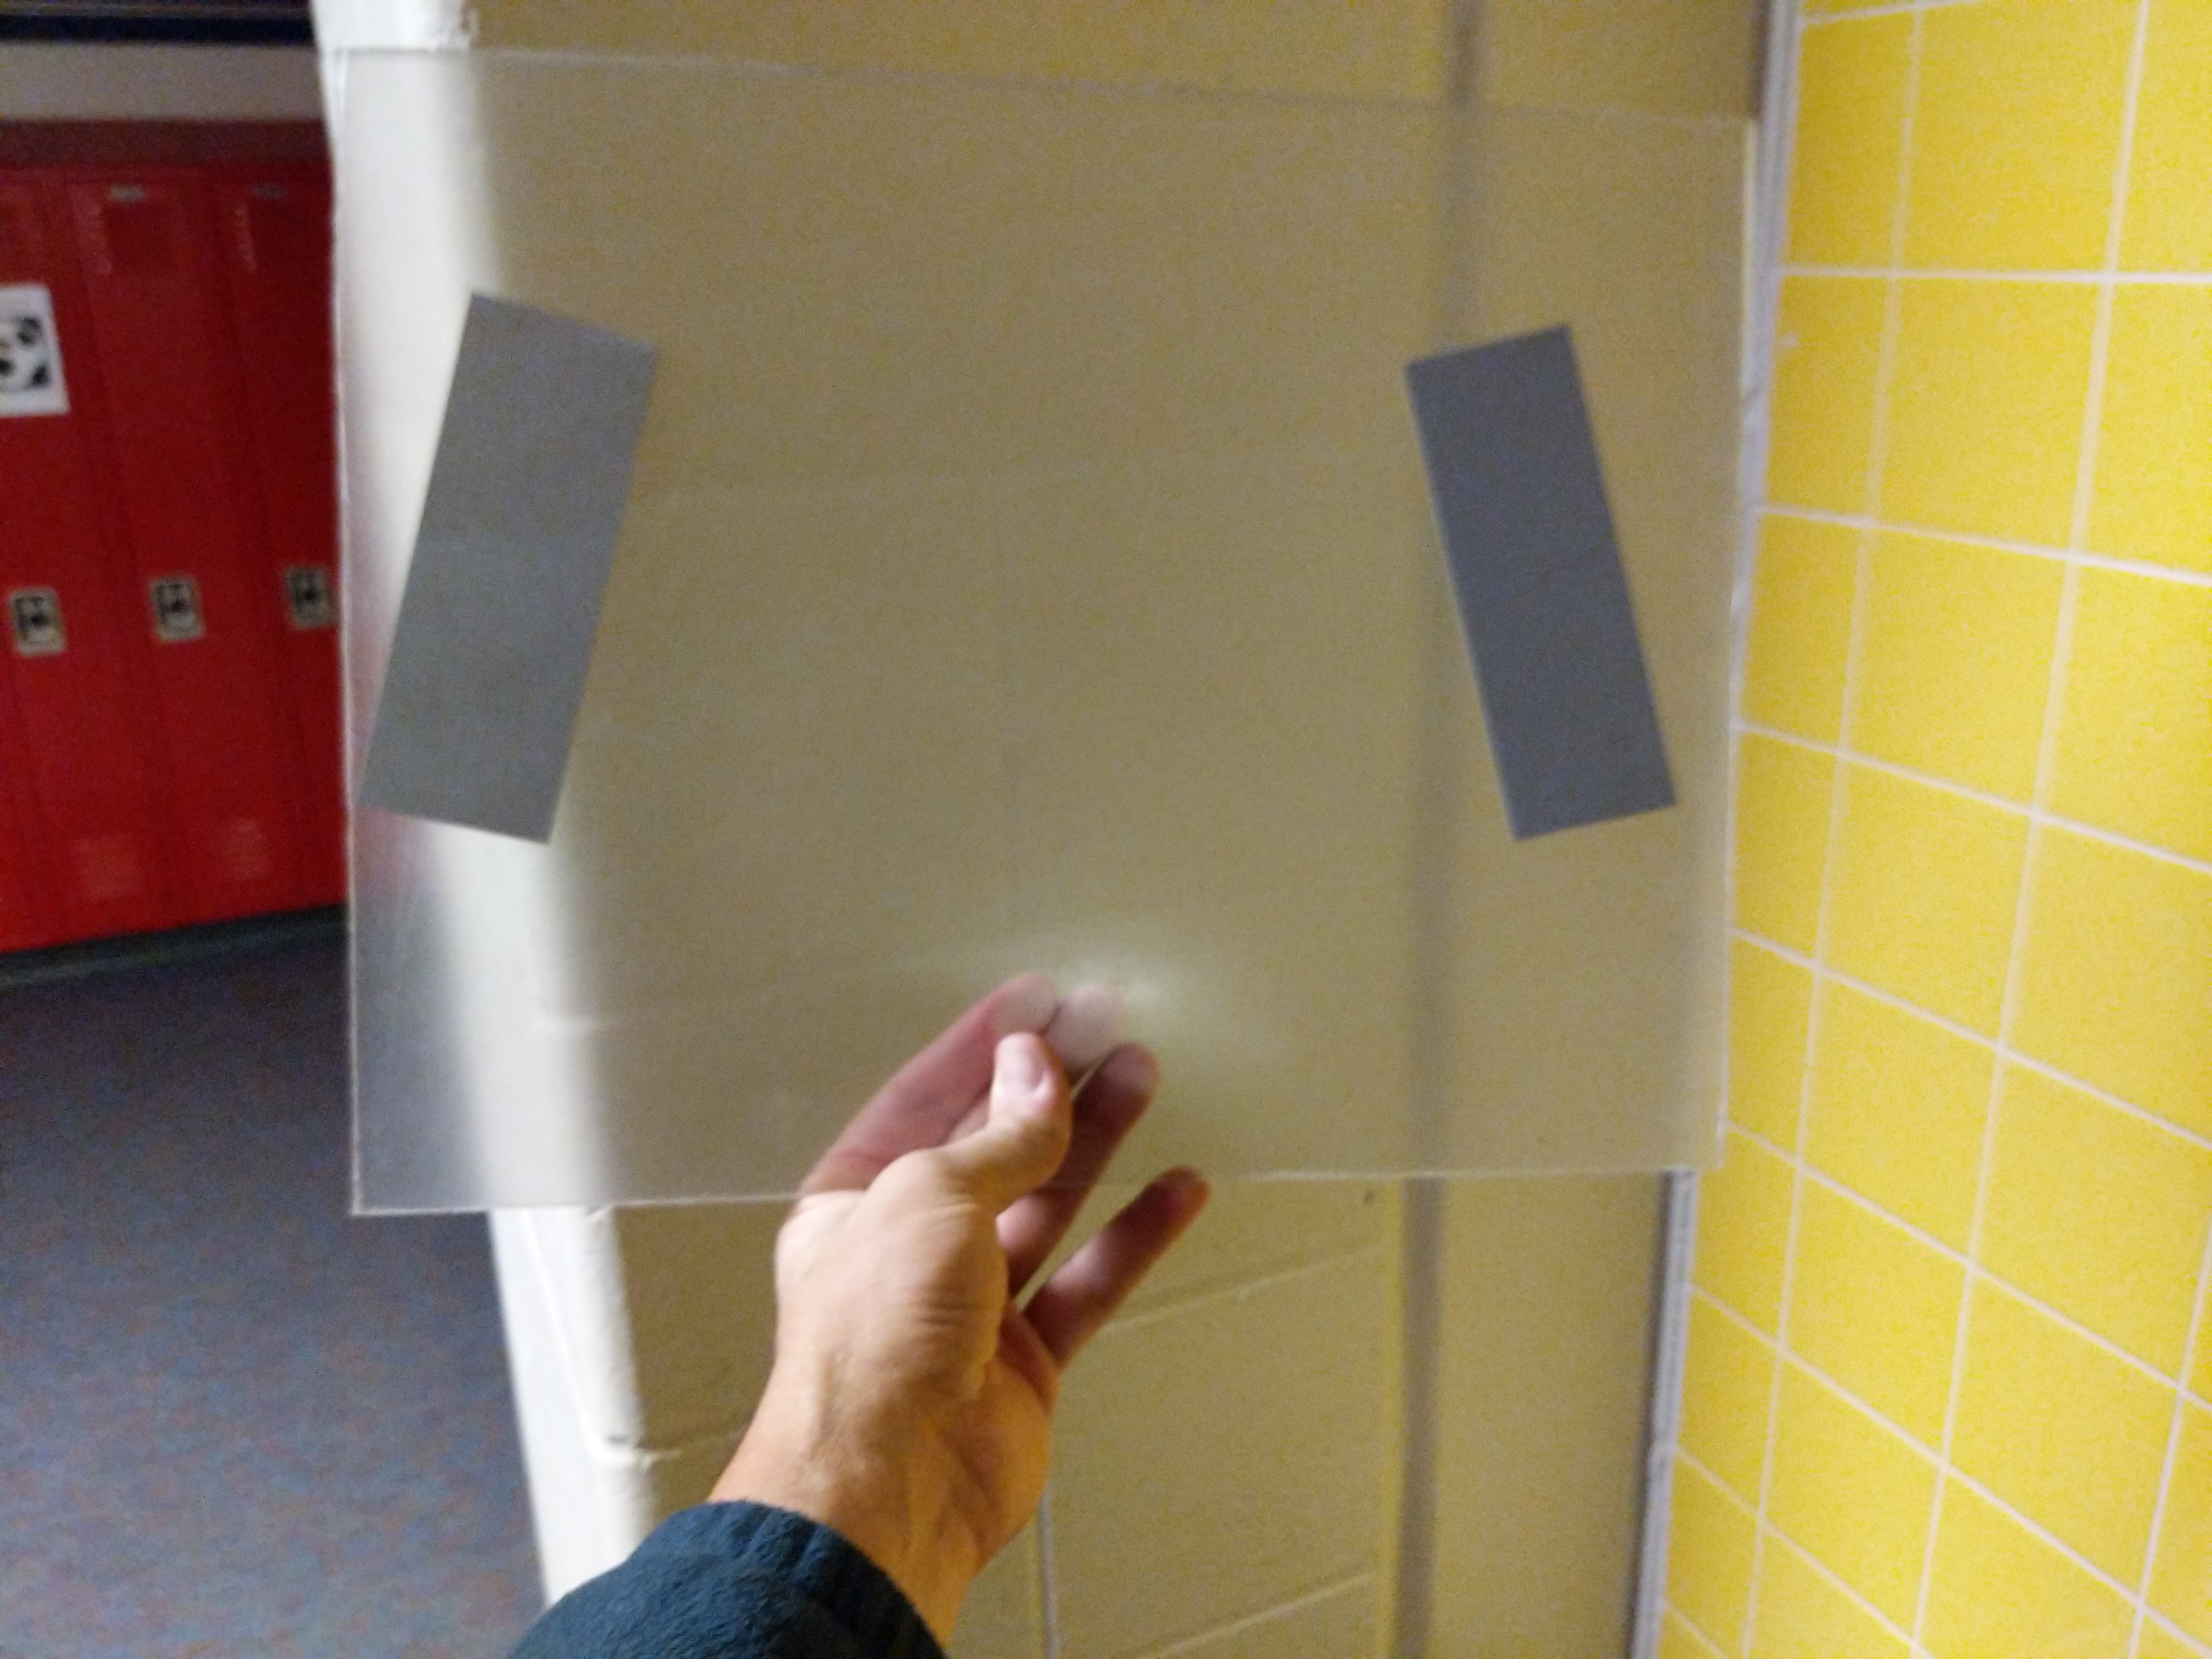vision_target: (340, 279, 1681, 868)
